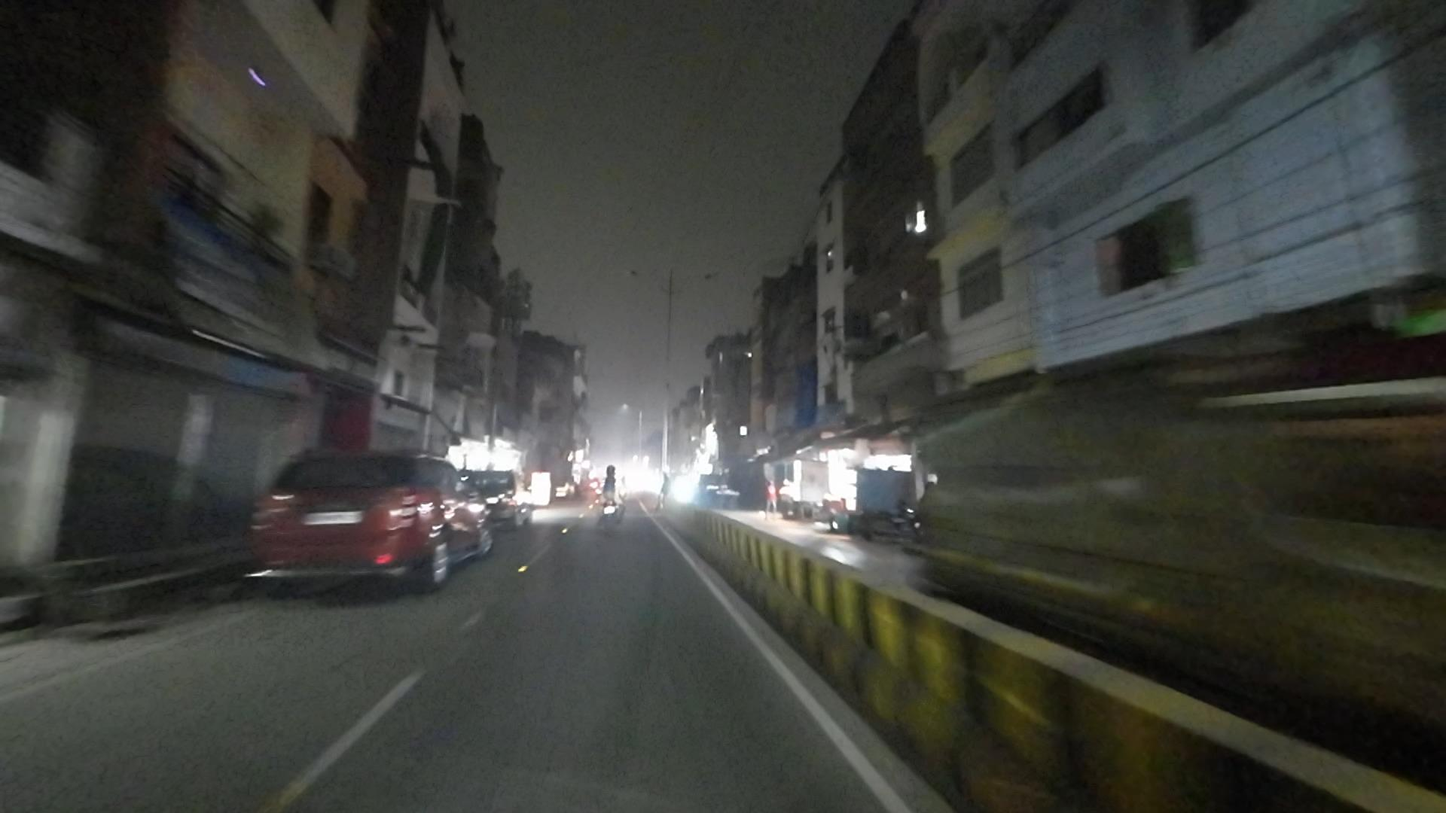streetlight: (624, 268, 668, 282), (676, 271, 714, 285)
